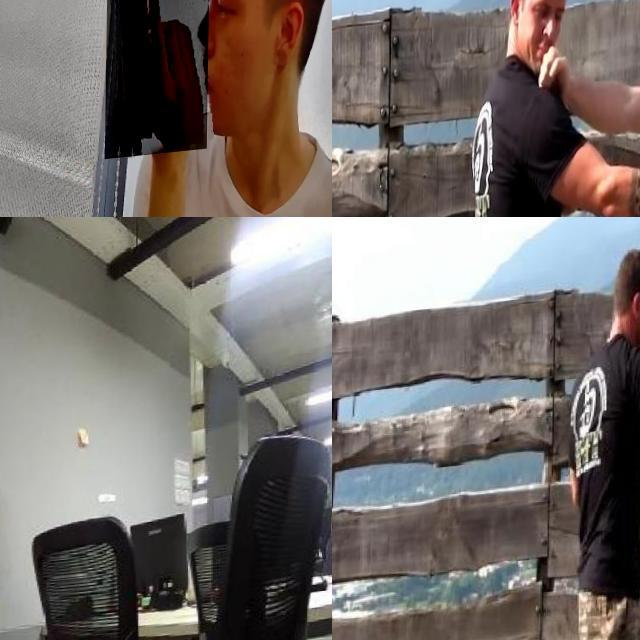gun-knife-thesis - v11 Yolov5 augmented: (105, 0, 211, 164)
